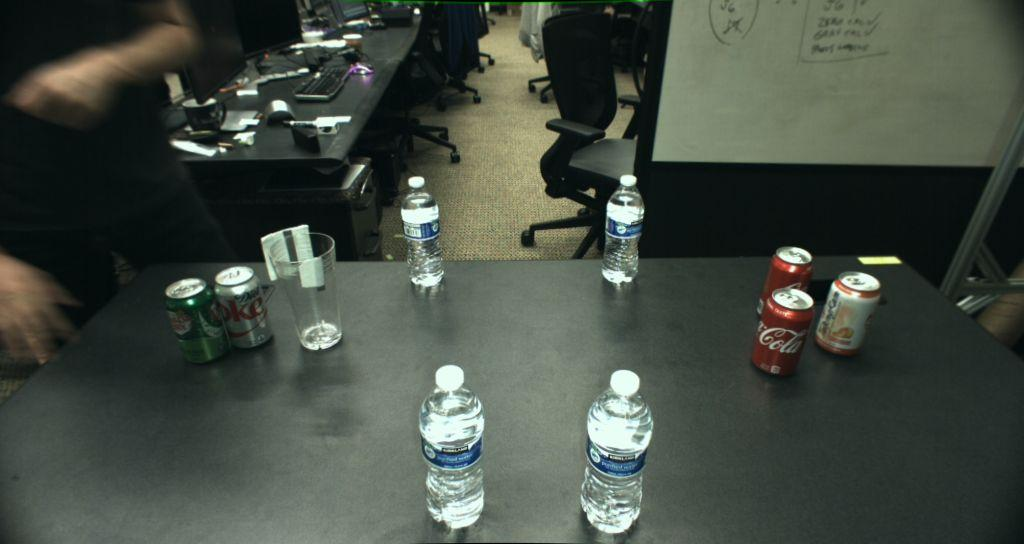can_coke: (752, 288, 814, 376)
can_diet_coke: (214, 265, 274, 351)
can_ginger_ale: (165, 278, 227, 364)
can_talking_rain_peach_nectarine: (814, 271, 881, 355)
water_bottle: (580, 369, 654, 533), (419, 364, 484, 528), (601, 173, 646, 285), (401, 175, 444, 287)
